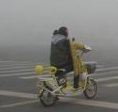person: (48, 24, 82, 91)
